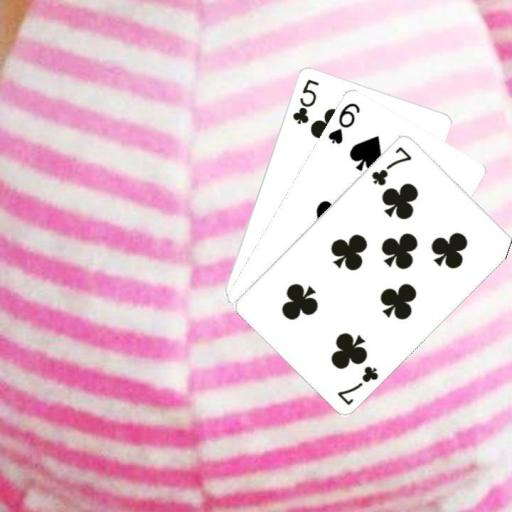5C: (289, 76, 320, 126)
6S: (325, 99, 362, 145)
7C: (335, 362, 381, 407), (368, 143, 413, 187)
